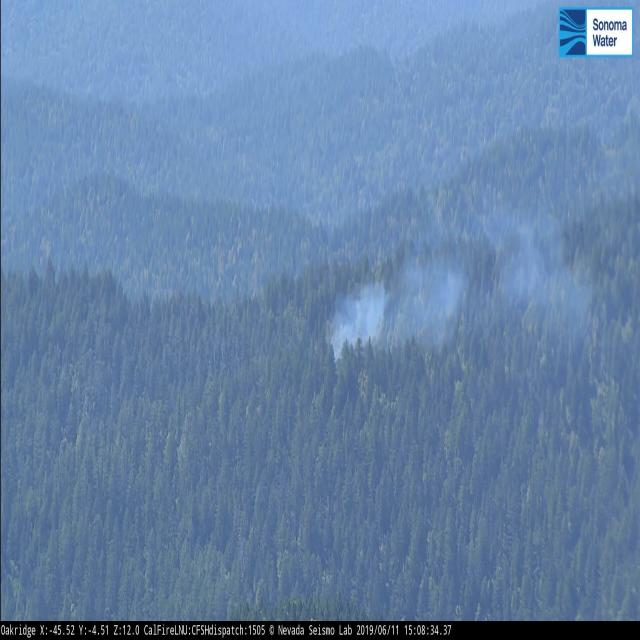smoke: (335, 209, 584, 362)
